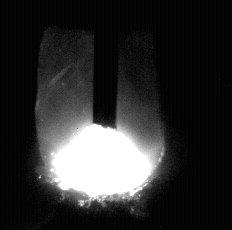arame: (93, 0, 118, 129)
poca: (38, 0, 166, 230)
